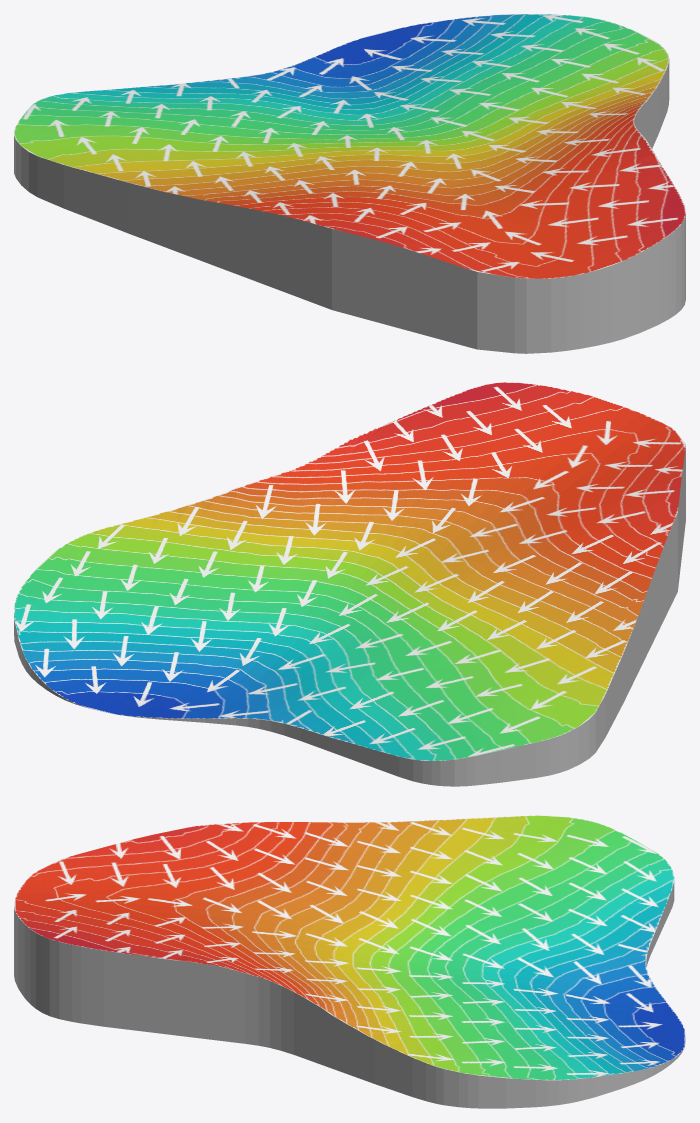
The picture shows the model from 3 angles, top to bottom: view 1: azimuth 30°, elevation 25°; view 2: azimuth 150°, elevation 25°; view 3: azimuth 270°, elevation 25°; orthographic projection. The views are drawn at different scales.
Size of the model in its own units: 5.82 by 0.8165 by 6.44.
2 materials, 1 textured.
